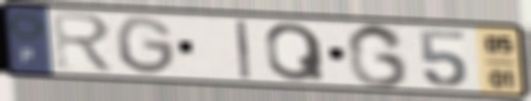5: (417, 28, 470, 90)
G: (344, 22, 411, 90), (113, 14, 178, 77)
I: (232, 18, 253, 82)
Q: (262, 21, 329, 83)
R: (49, 10, 120, 75)
